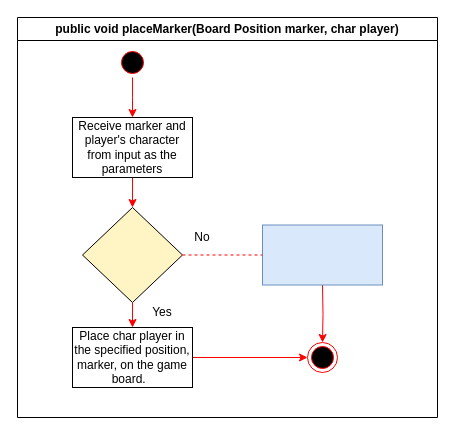
This 455x435 diagram has some shape labels left out. The shapes that lost their labels are listed below. From the top down, each one's box as (x1, y1, x2, y2) in pixels, then its label:
(82, 206, 182, 302): Is marker a valid position?
(262, 224, 382, 285): This function would not be called
